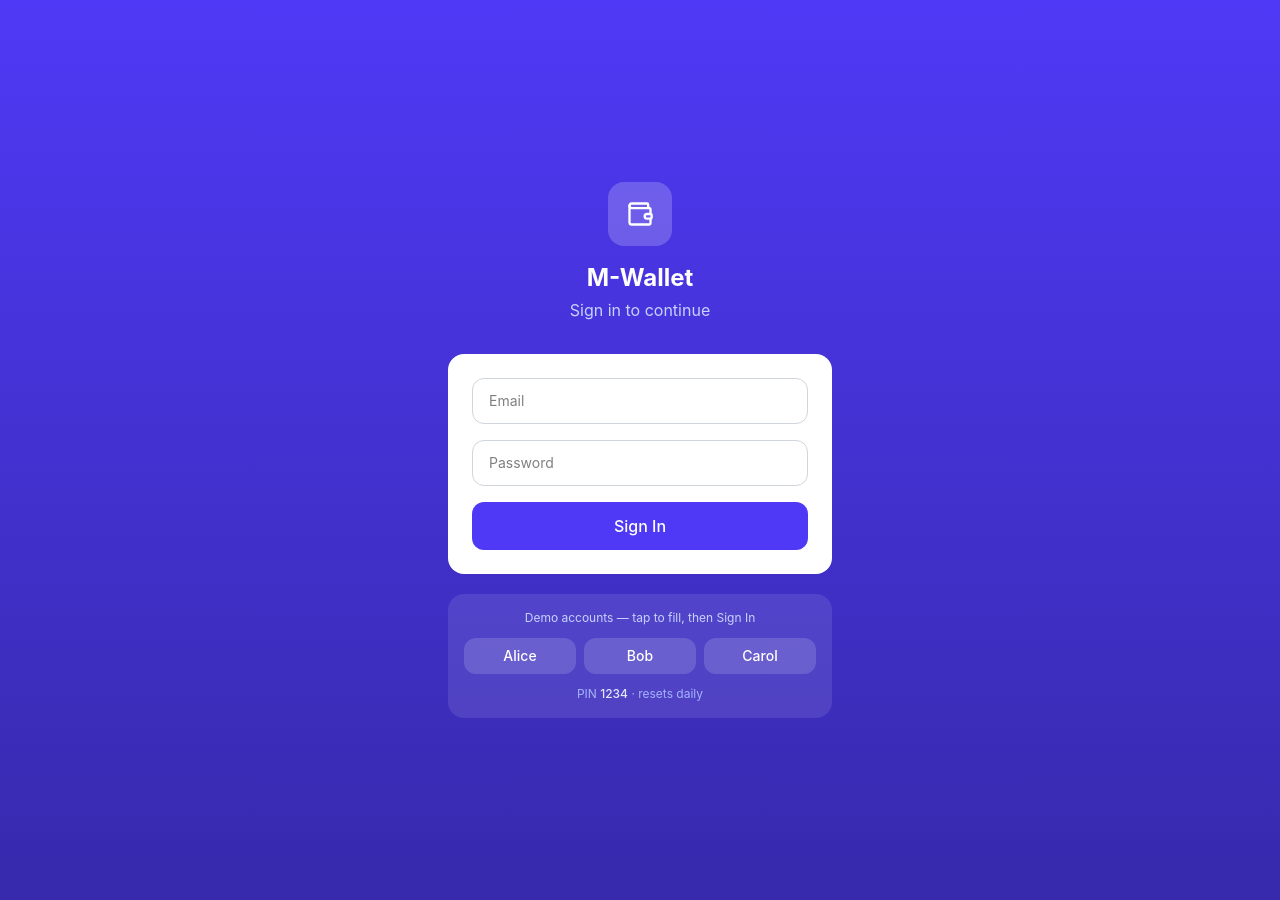
Test: LoginPage › shows an inline error and stays on the page when the API returns 401
Type "alice@demo.local" into the field with placeholder "Email" at (640, 401), box [472,378,808,424]
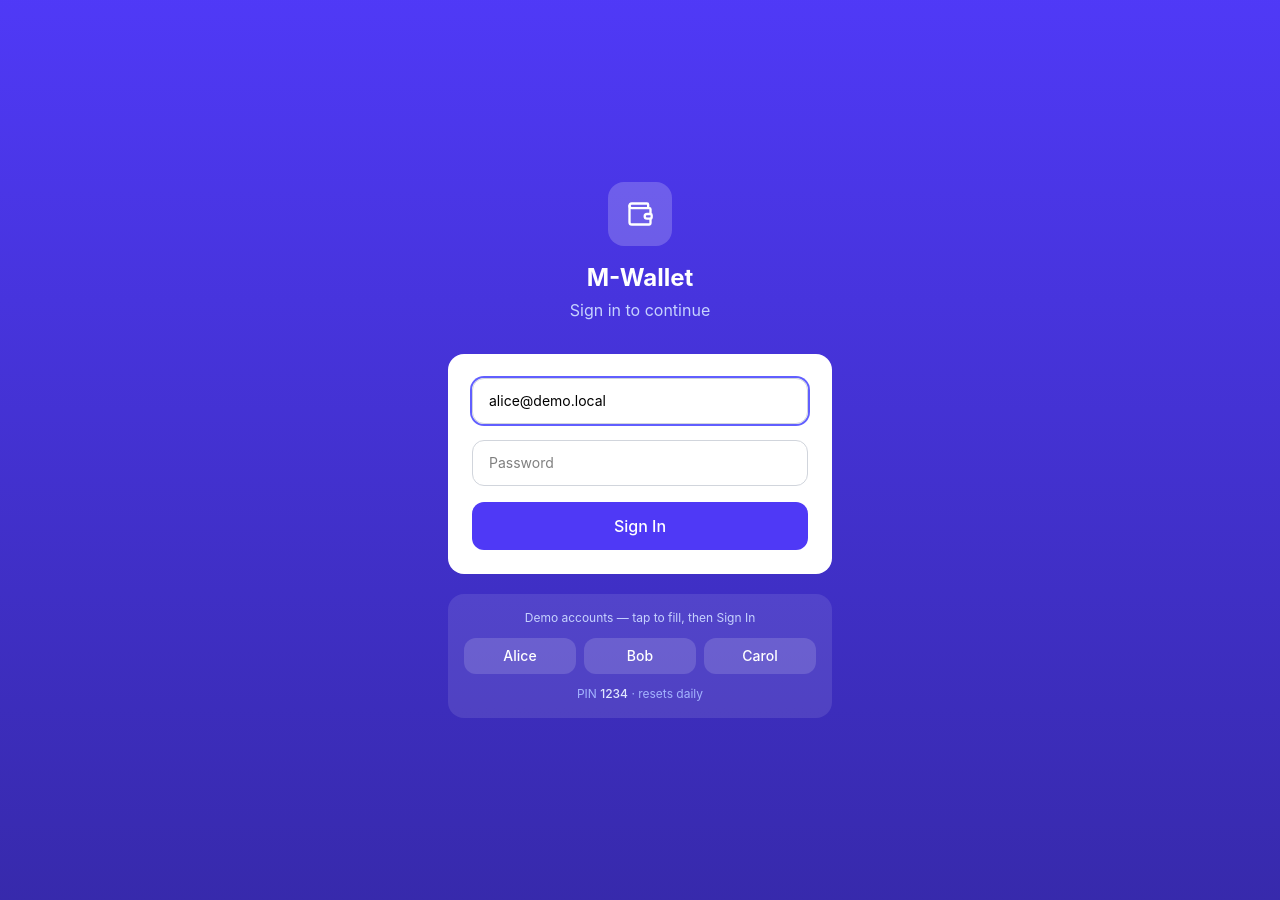
Type "WRONG" into the password field with placeholder "Password" at (640, 463), box [472,440,808,486]
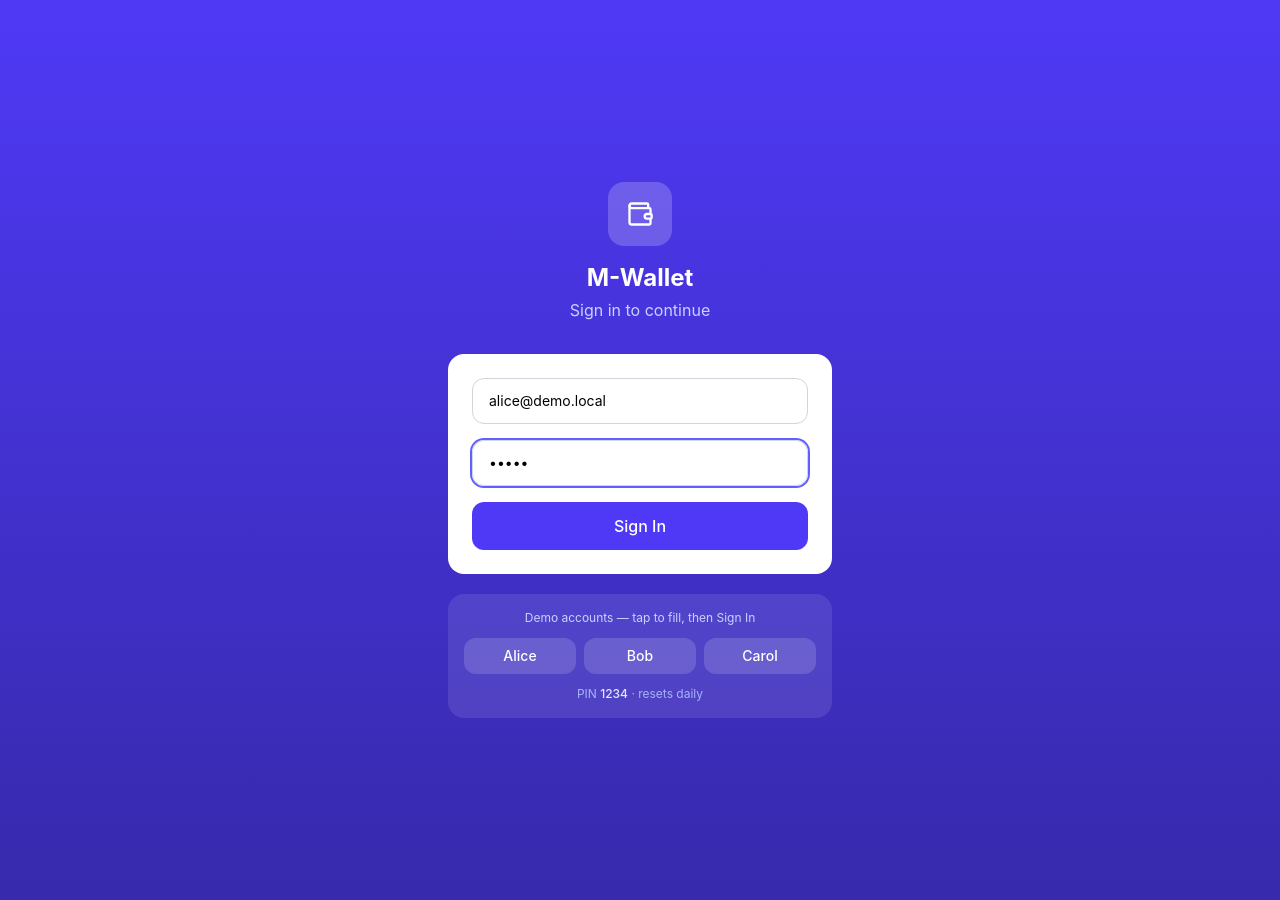
Click the button "Sign In" at (640, 526), box [472,502,808,550]
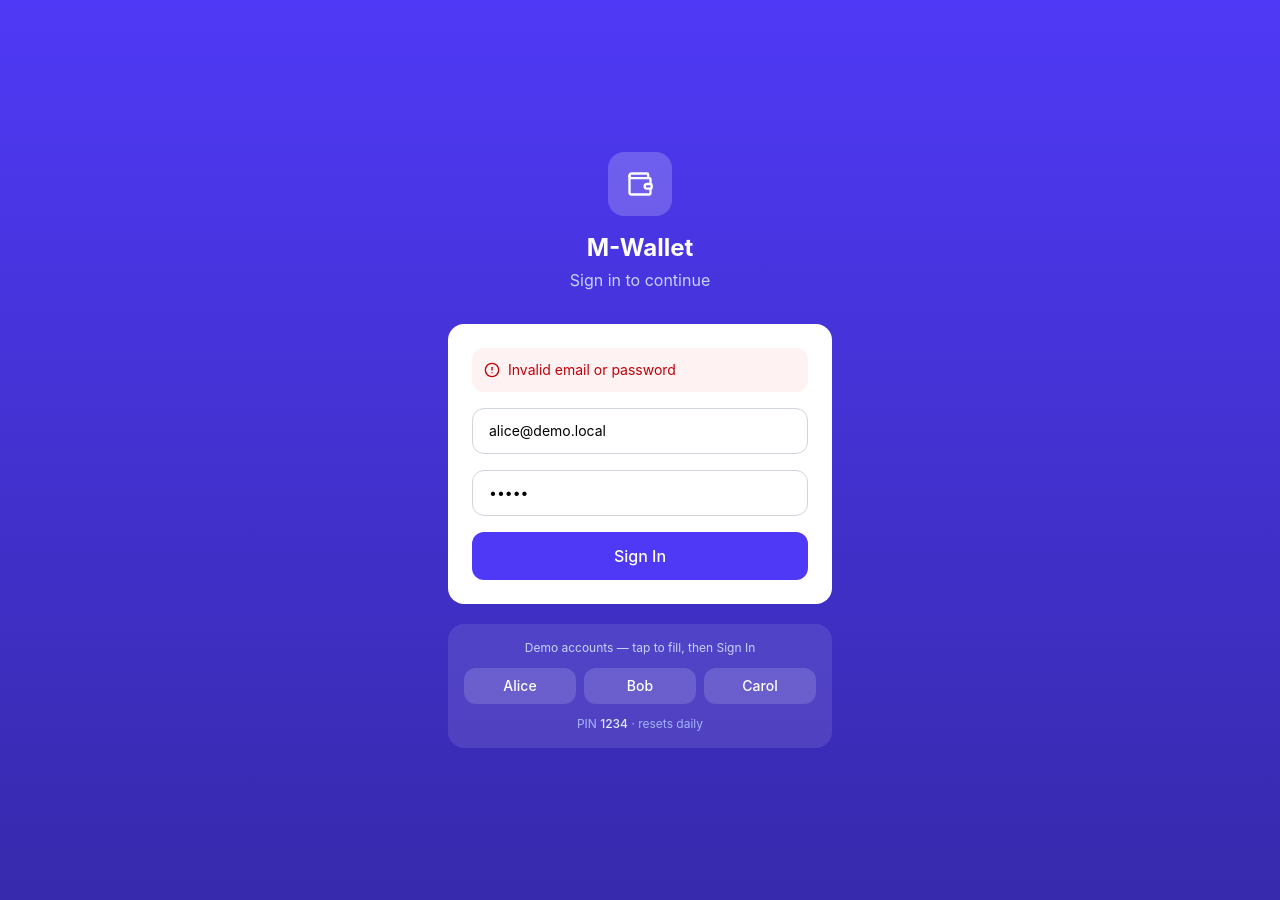
Expected: the text "Invalid email or password" is shown, [472,348,808,392]
